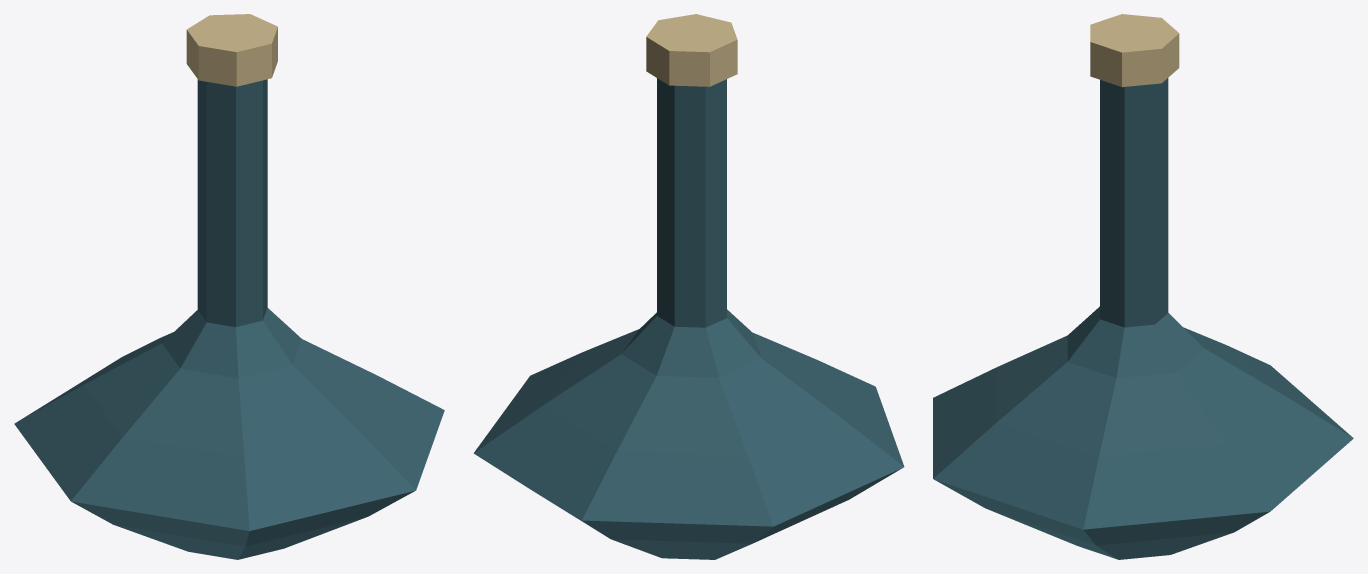
File: LongPotion_2.fbx
3 views of the same model, side by side, from view 1: azimuth 30°, elevation 25°; view 2: azimuth 150°, elevation 25°; view 3: azimuth 270°, elevation 25° (orthographic).
Visible parts, largest first — view 1: LongPotion_2; view 2: LongPotion_2; view 3: LongPotion_2.
Part boxes in pixels (x1,y1,x2,y2): LongPotion_2: (14, 14, 444, 559); LongPotion_2: (473, 14, 904, 559); LongPotion_2: (933, 14, 1353, 559).
Bounding box in the file's own units: 18.37 × 23.55 × 17.91.
